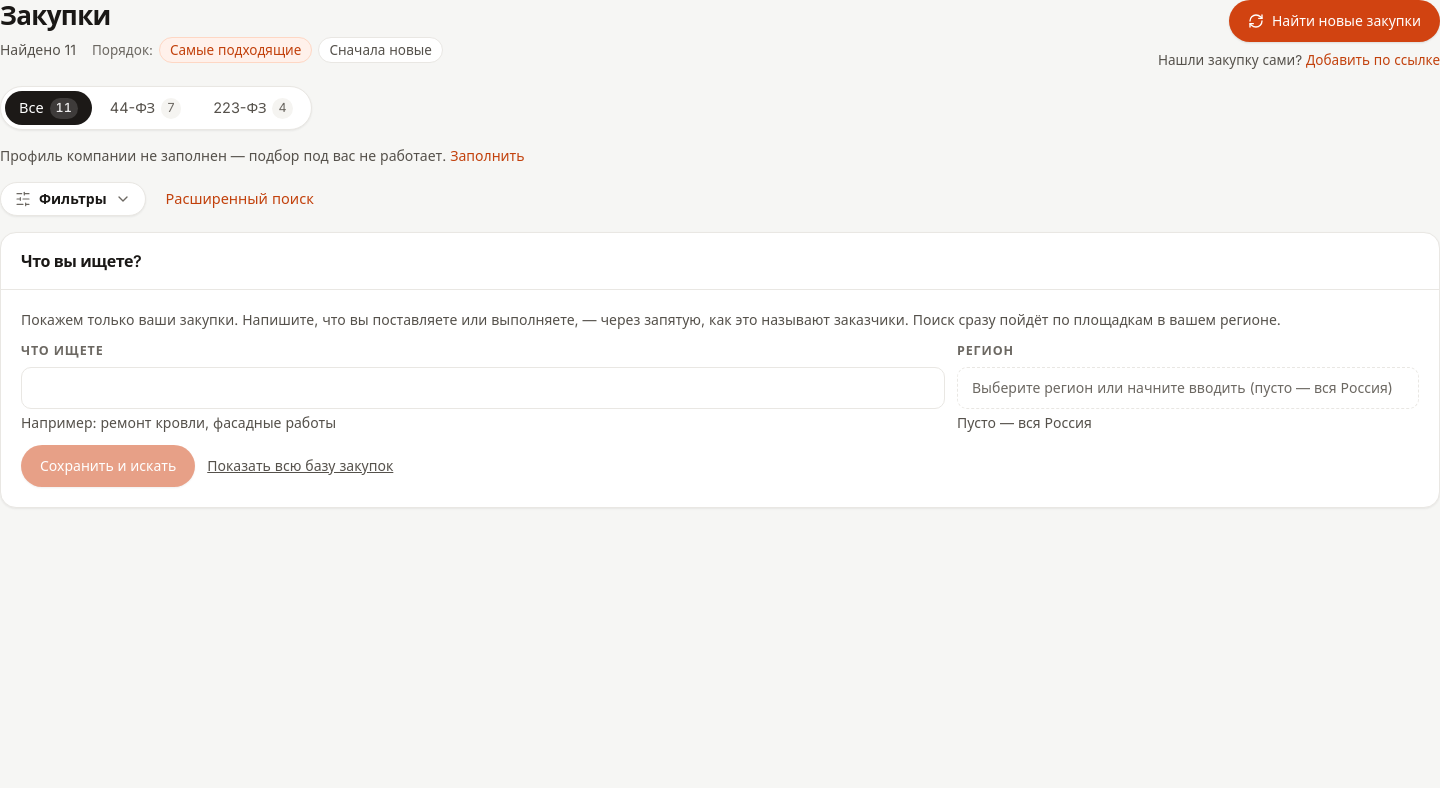
Test: TendersView — порядок выдачи по свежести › кнопка «Сначала новые» включает слои по свежести, «Самые подходящие» возвращает Fit Score
Click the button "Сначала новые": coordinates (381, 50) [318,36,443,63]
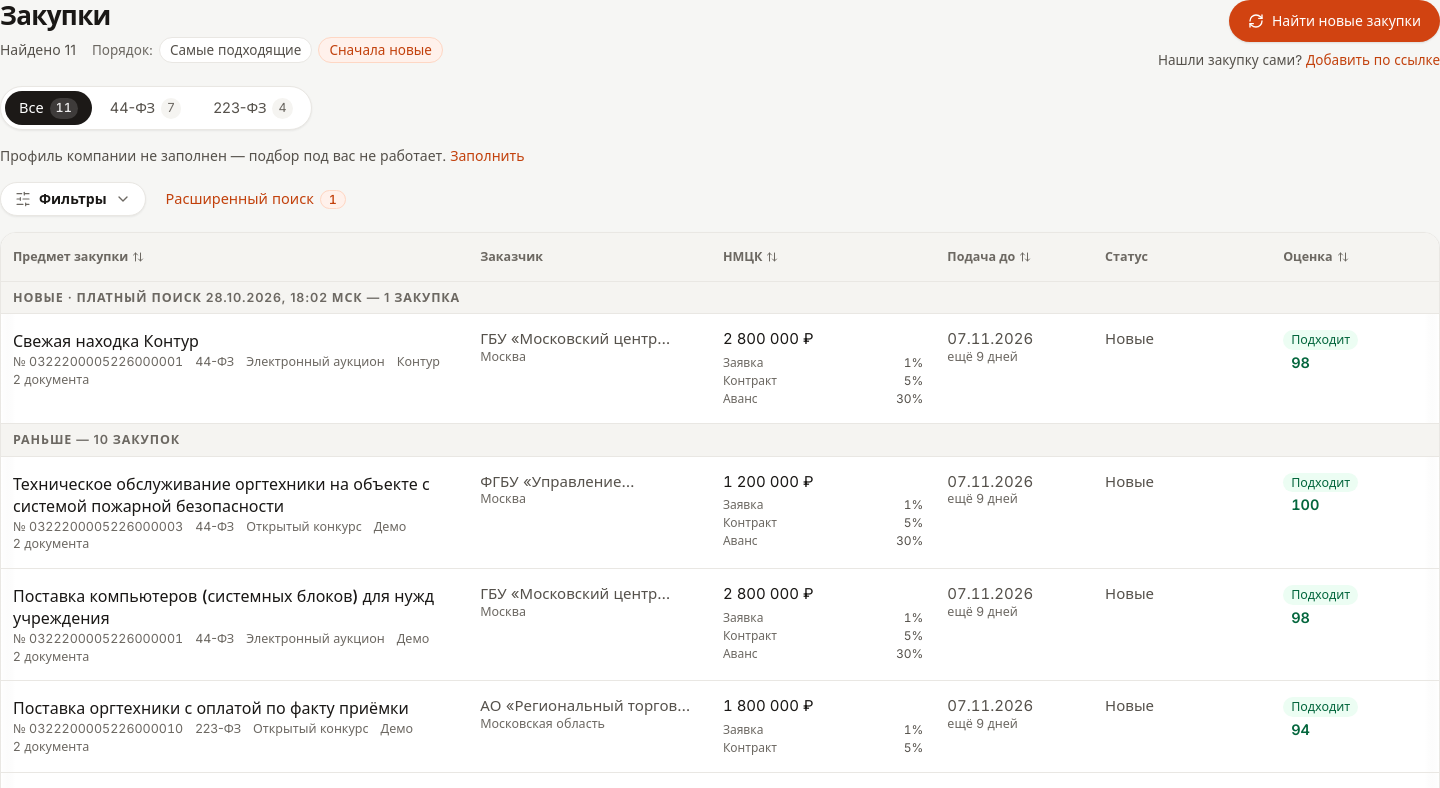
Check: the text "Новые · платный поиск 28.10.2026, 18:02 МСК — 1 закупка" is shown, box [1,281,1439,314]
Click the button "Самые подходящие": coordinates (236, 50) [159,36,312,63]
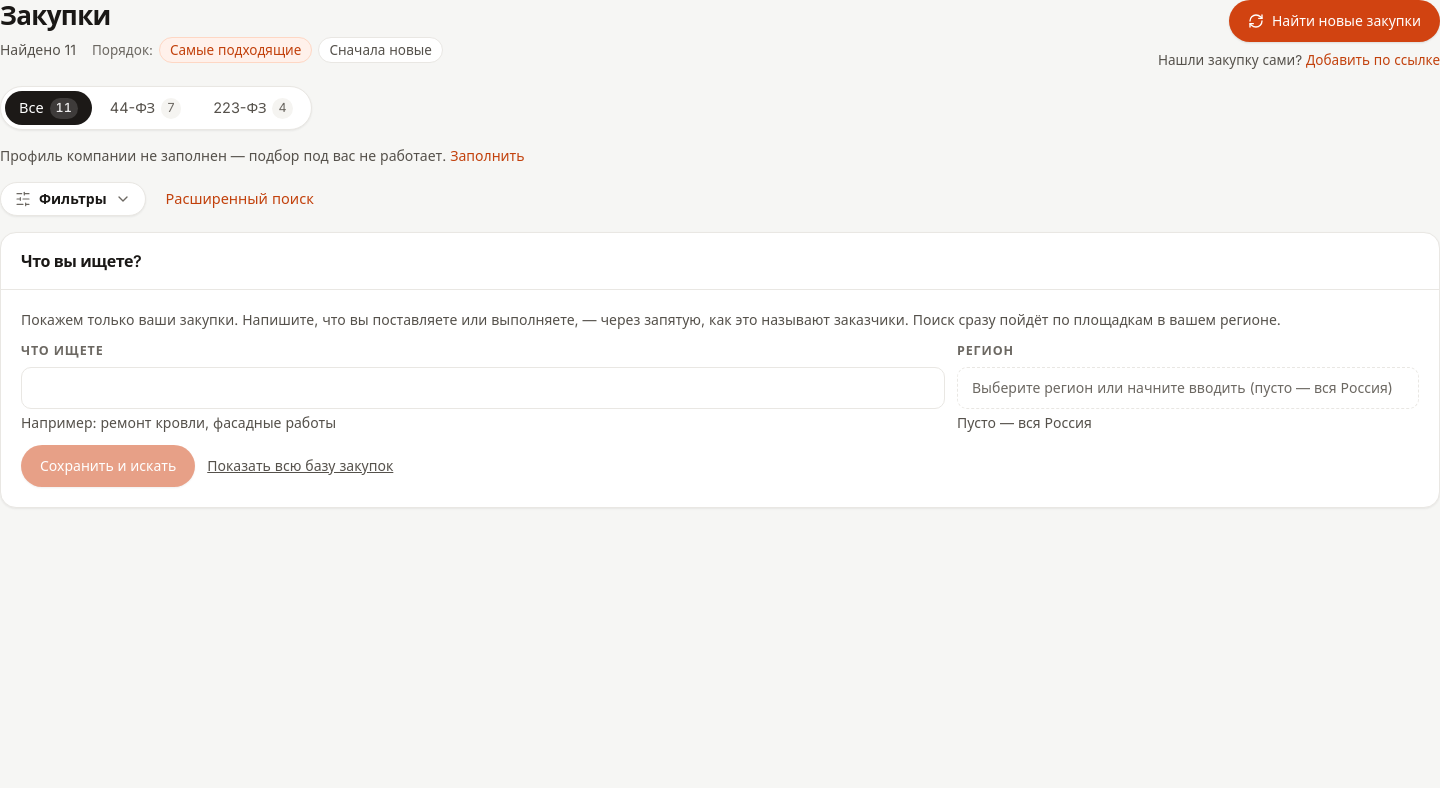
Check: the text "Новые · платный поиск" is gone
